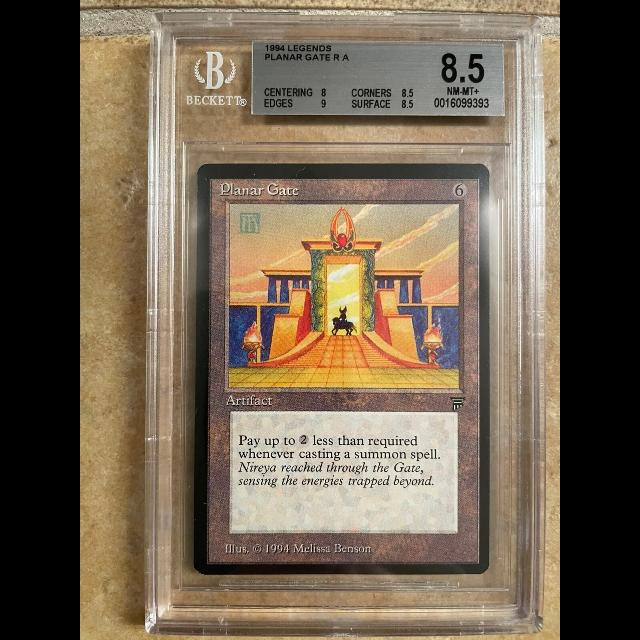bgs_label: (252, 43, 504, 116)
bgs_slab: (145, 11, 543, 634)
card: (192, 162, 490, 575)
